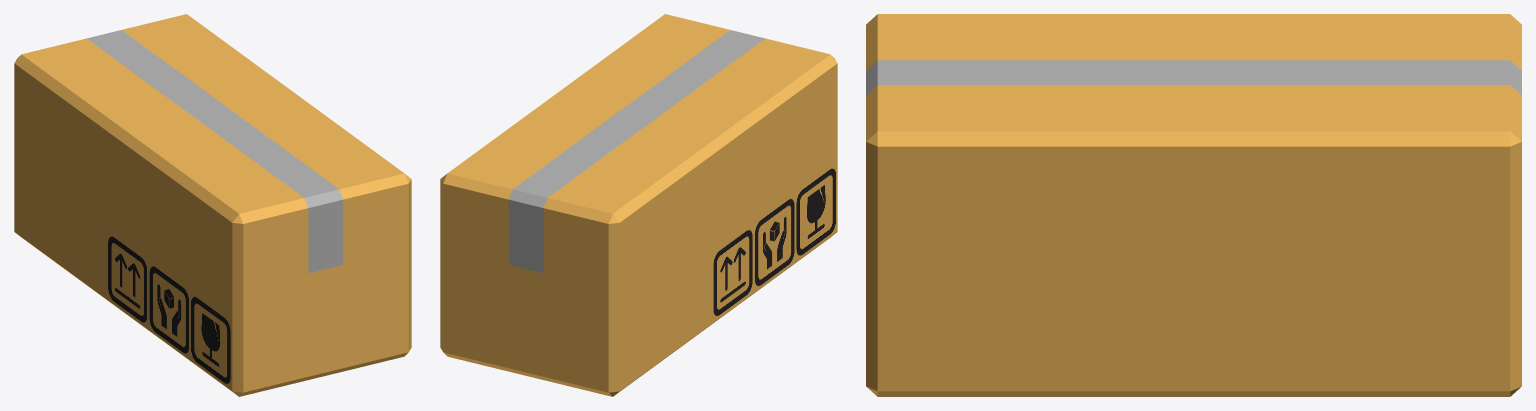
Rendered from Carton_01.fbx.
3 renders of one model, left to right at view 1: azimuth 30°, elevation 25°; view 2: azimuth 150°, elevation 25°; view 3: azimuth 270°, elevation 25°, orthographic. The views are drawn at different scales.
Visible parts, largest first — view 1: Carton_01; view 2: Carton_01; view 3: Carton_01.
Part boxes in pixels (x1=…): Carton_01: x1=14, y1=14, x2=411, y2=396; Carton_01: x1=440, y1=14, x2=837, y2=396; Carton_01: x1=866, y1=14, x2=1521, y2=396.
Size of the model in its own units: 156 by 153 by 341.
